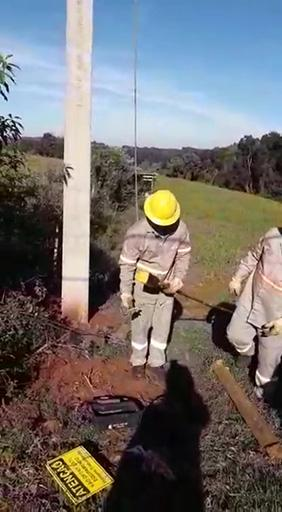Vara_Manobra: (157, 279, 240, 315)
